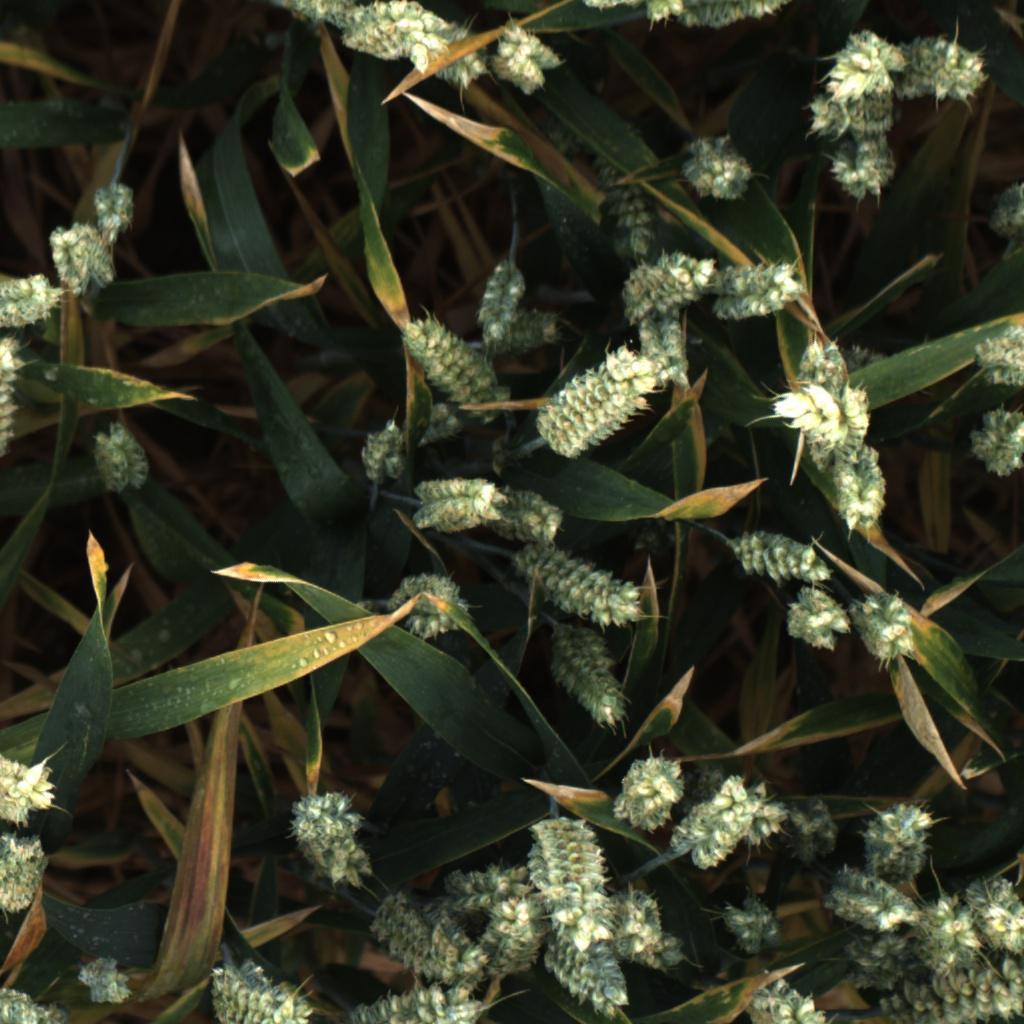0-0: (334, 0, 500, 103), (537, 336, 670, 463), (517, 809, 626, 959), (363, 884, 502, 999), (385, 303, 511, 427), (664, 770, 775, 874), (515, 546, 657, 626), (761, 383, 887, 473), (279, 787, 382, 894), (535, 913, 633, 1024), (203, 951, 321, 1024), (884, 34, 995, 110), (425, 855, 538, 926), (554, 632, 630, 735), (791, 82, 906, 150), (383, 564, 477, 643), (591, 156, 662, 258), (476, 19, 561, 104), (411, 466, 504, 542), (618, 248, 717, 317), (610, 750, 692, 833), (475, 905, 557, 988), (821, 21, 907, 100), (824, 441, 896, 535), (908, 890, 987, 975), (415, 895, 494, 979), (824, 871, 925, 936), (955, 870, 1024, 965), (340, 979, 483, 1024), (861, 797, 943, 874), (818, 134, 905, 205), (592, 880, 666, 963), (0, 742, 68, 830), (721, 260, 806, 330), (731, 528, 831, 586), (681, 128, 755, 204), (40, 221, 116, 294), (491, 482, 577, 546), (854, 589, 922, 668), (85, 419, 154, 496), (736, 970, 833, 1024), (467, 258, 533, 337), (838, 932, 921, 992), (720, 890, 789, 960), (965, 404, 1024, 485), (784, 789, 846, 866), (634, 308, 694, 387), (782, 587, 852, 653), (736, 777, 795, 852), (500, 303, 578, 359), (669, 0, 800, 33), (0, 831, 46, 922), (0, 271, 63, 335), (266, 0, 368, 38), (363, 417, 418, 487), (69, 949, 136, 1006), (791, 334, 853, 394), (979, 179, 1024, 251), (683, 760, 734, 821), (978, 320, 1024, 387), (0, 335, 22, 468), (89, 179, 138, 237), (635, 927, 691, 977), (0, 986, 57, 1024), (639, 0, 689, 32), (35, 1000, 74, 1024)
